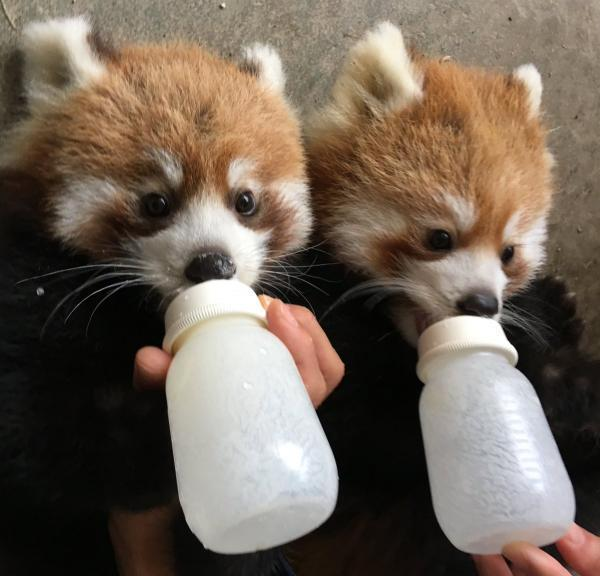raccoon: (3, 18, 319, 317), (304, 24, 587, 330)
